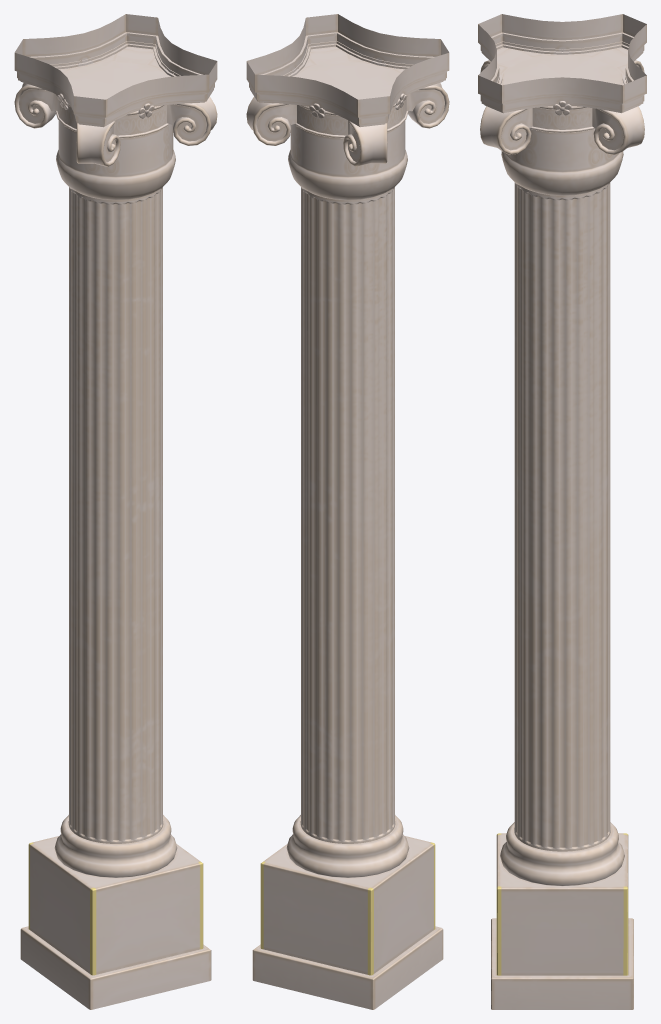
Rendered from Column.fbx.
3 views of the same model, side by side, from view 1: azimuth 30°, elevation 25°; view 2: azimuth 150°, elevation 25°; view 3: azimuth 270°, elevation 25° (orthographic).
Visible parts, largest first — view 1: Column; view 2: Column; view 3: Column.
Boxes of the visible parts, x1,y1,x2,y2 form: Column: (14, 14, 217, 1009); Column: (246, 14, 449, 1009); Column: (478, 14, 646, 1009).
Size of the model in its own units: 57.81 by 351 by 57.81.
Materials: 1 (1 with a texture image).
